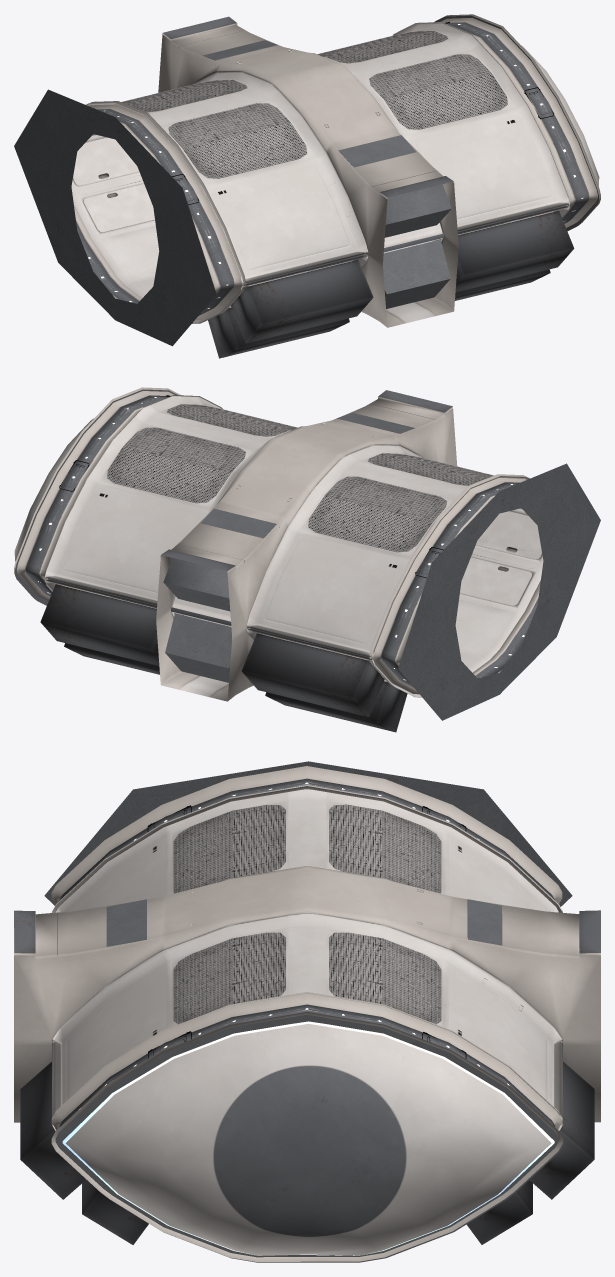
File: StrgRoom.fbx
3 views of the same model, one above another, from view 1: azimuth 30°, elevation 25°; view 2: azimuth 150°, elevation 25°; view 3: azimuth 270°, elevation 25° (orthographic). The views are drawn at different scales.
Visible parts, largest first — view 1: hall_002, HallCap, DormHallSeparator, DormHallSeparator__1_, SM_StrgCubyTop, SM_StrgCubyBotm__1_, door_009, door_008, SM_StrgCap, SM_StrgCubyTop__1_; view 2: hall_002, HallCap, DormHallSeparator, DormHallSeparator__1_, SM_StrgCubyTop__1_, SM_StrgCubyBotm, door_005, door_004, SM_StrgCap, SM_StrgCubyTop; view 3: hall_002, SM_StrgCap, DormHallSeparator__1_, DormHallSeparator, HallCap, SM_StrgCubyTop, SM_StrgCubyTop__1_.
Boxes of the visible parts, <box> form: hall_002: <box>71,16,574,358</box>; HallCap: <box>14,89,216,346</box>; DormHallSeparator: <box>73,101,245,322</box>; DormHallSeparator__1_: <box>393,14,600,227</box>; SM_StrgCubyTop: <box>264,71,451,252</box>; SM_StrgCubyBotm__1_: <box>383,238,450,308</box>; door_009: <box>83,184,154,232</box>; door_008: <box>73,137,139,185</box>; SM_StrgCap: <box>434,15,599,231</box>; SM_StrgCubyTop__1_: <box>178,31,351,92</box>; hall_002: <box>40,390,543,732</box>; HallCap: <box>398,463,600,720</box>; DormHallSeparator: <box>369,474,540,694</box>; DormHallSeparator__1_: <box>14,387,222,601</box>; SM_StrgCubyTop__1_: <box>163,445,351,625</box>; SM_StrgCubyBotm: <box>165,612,248,682</box>; door_005: <box>460,557,532,606</box>; door_004: <box>476,511,542,559</box>; SM_StrgCap: <box>14,389,177,605</box>; SM_StrgCubyTop: <box>262,403,435,465</box>; hall_002: <box>14,784,600,1244</box>; SM_StrgCap: <box>55,1014,563,1262</box>; DormHallSeparator__1_: <box>51,992,562,1261</box>; DormHallSeparator: <box>51,766,562,912</box>; HallCap: <box>44,761,572,906</box>; SM_StrgCubyTop: <box>53,899,307,1043</box>; SM_StrgCubyTop__1_: <box>309,899,562,1038</box>.
Size of the model in its own units: 711 by 324 by 651.
